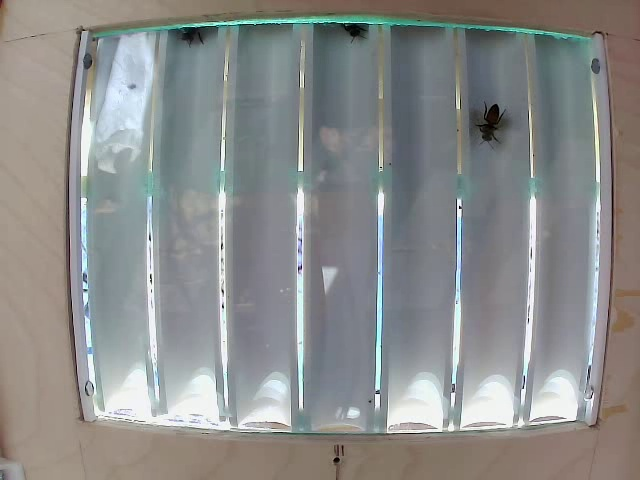bee: (461, 95, 511, 148)
